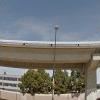Bridge: (7, 26, 95, 77)
